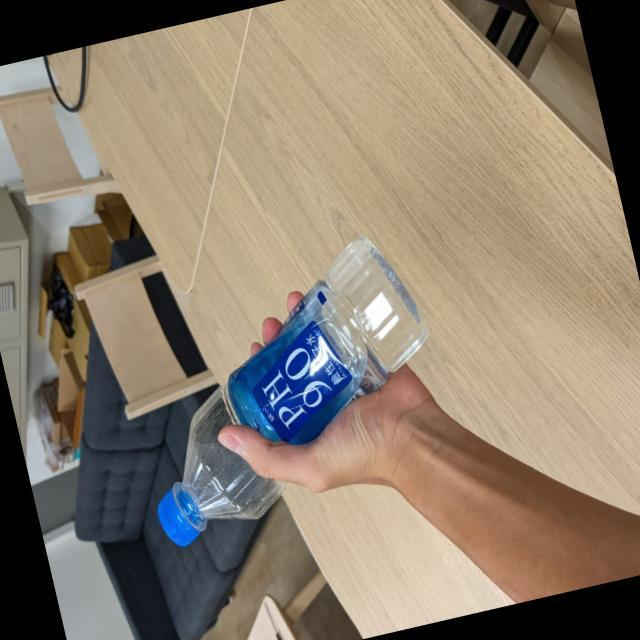good: (102, 222, 463, 556)
